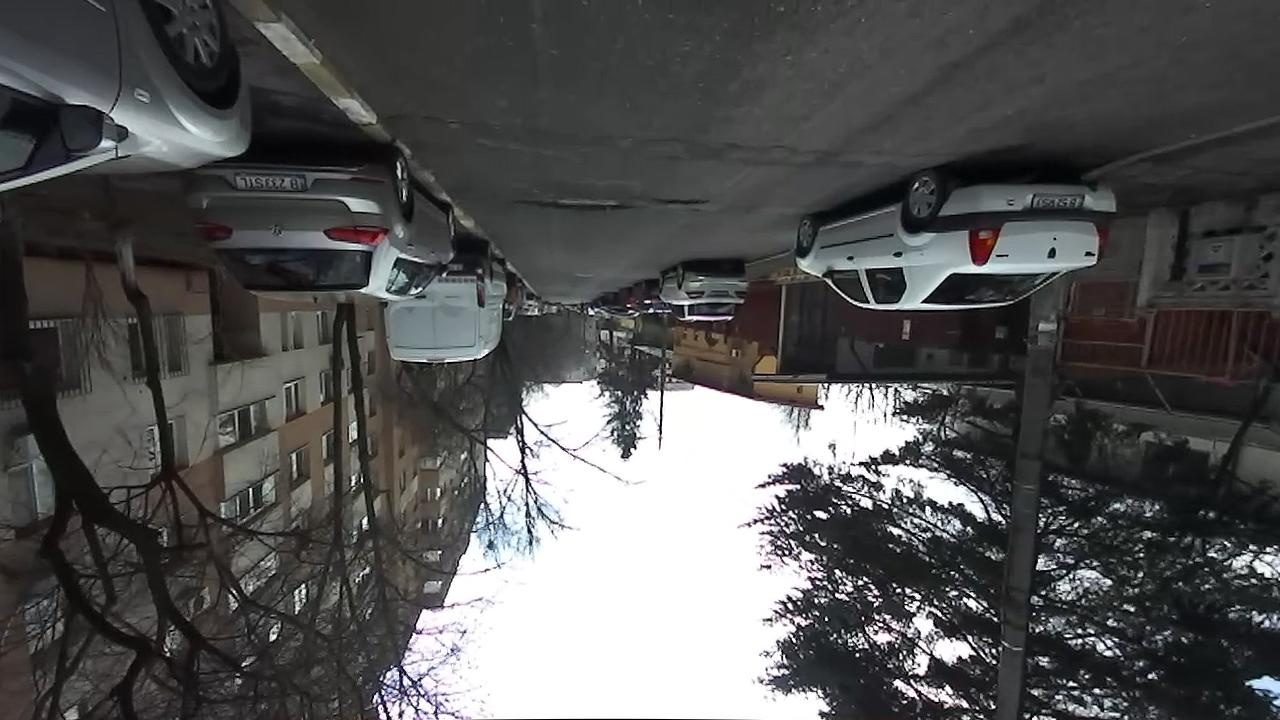pothole: (510, 194, 635, 214), (648, 194, 711, 207)
